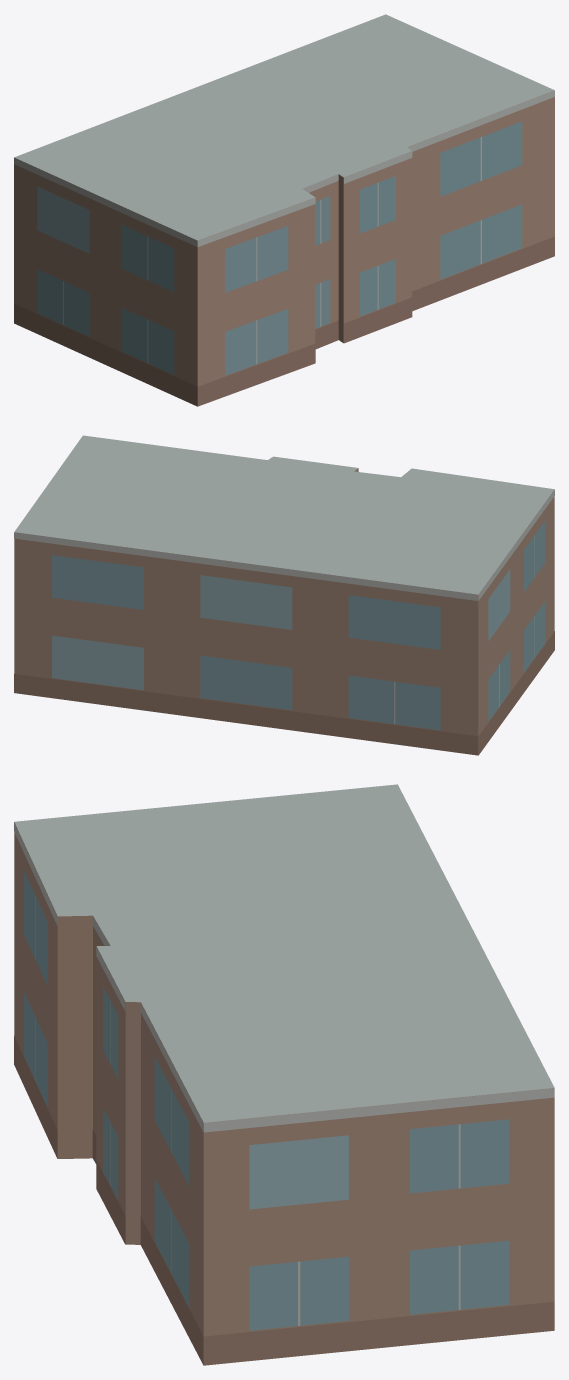
The model's file is survey-upis-33015417.glb.
3 views of the same model, one above another, from view 1: azimuth 30°, elevation 25°; view 2: azimuth 150°, elevation 25°; view 3: azimuth 270°, elevation 25° (orthographic). The views are drawn at different scales.
Visible parts, largest first — view 1: survey-upis-33015417.tmp; view 2: survey-upis-33015417.tmp; view 3: survey-upis-33015417.tmp.
Boxes of the visible parts, x1,y1,x2,y2 form: survey-upis-33015417.tmp: (14, 14, 554, 406); survey-upis-33015417.tmp: (14, 435, 554, 755); survey-upis-33015417.tmp: (14, 784, 554, 1365).
Bounding box in the file's own units: 18.26 × 6.1 × 12.32.
